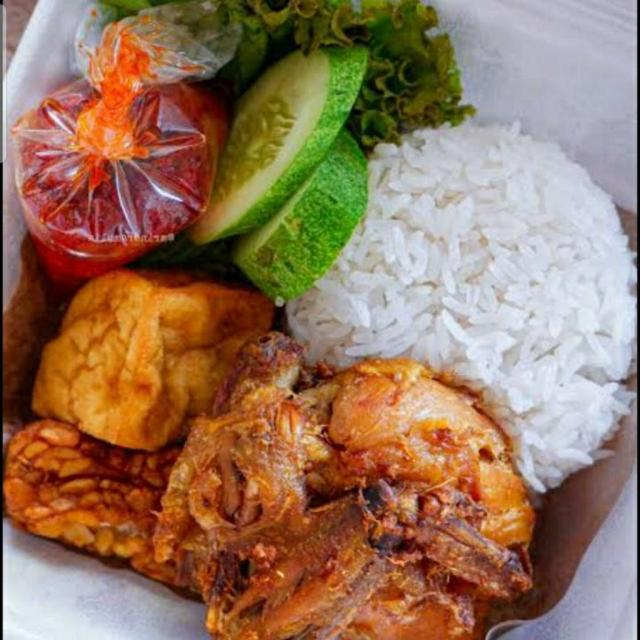ayam_goreng: (177, 381, 538, 640)
nasi_putih: (339, 100, 636, 452)
